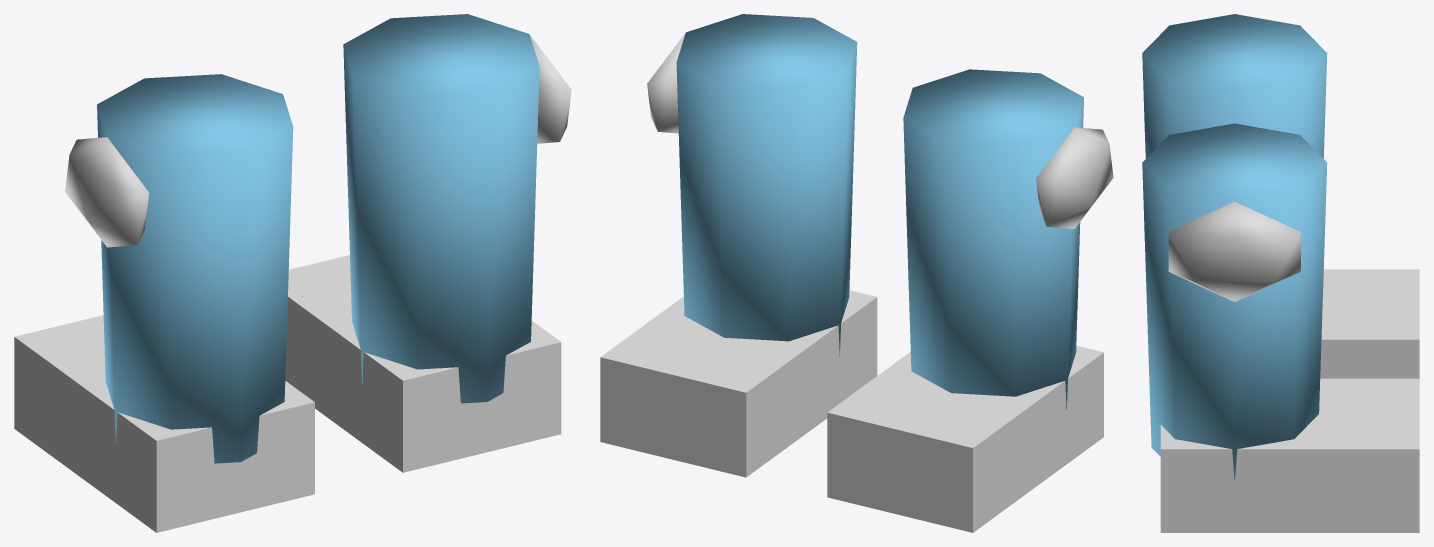
Rendered from spectre_boots.glb.
The picture shows the model from 3 angles, left to right: view 1: azimuth 30°, elevation 25°; view 2: azimuth 150°, elevation 25°; view 3: azimuth 270°, elevation 25°; orthographic projection. The views are drawn at different scales.
Parts seen in each view (by area): view 1: spectre_boots_v0; view 2: spectre_boots_v0; view 3: spectre_boots_v0.
Part boxes in pixels (x1,y1,x2,y2): spectre_boots_v0: (14,14,571,532); spectre_boots_v0: (600,14,1113,532); spectre_boots_v0: (1142,14,1419,532).
Bounding box in the file's own units: 0.2615 × 0.2 × 0.15.
